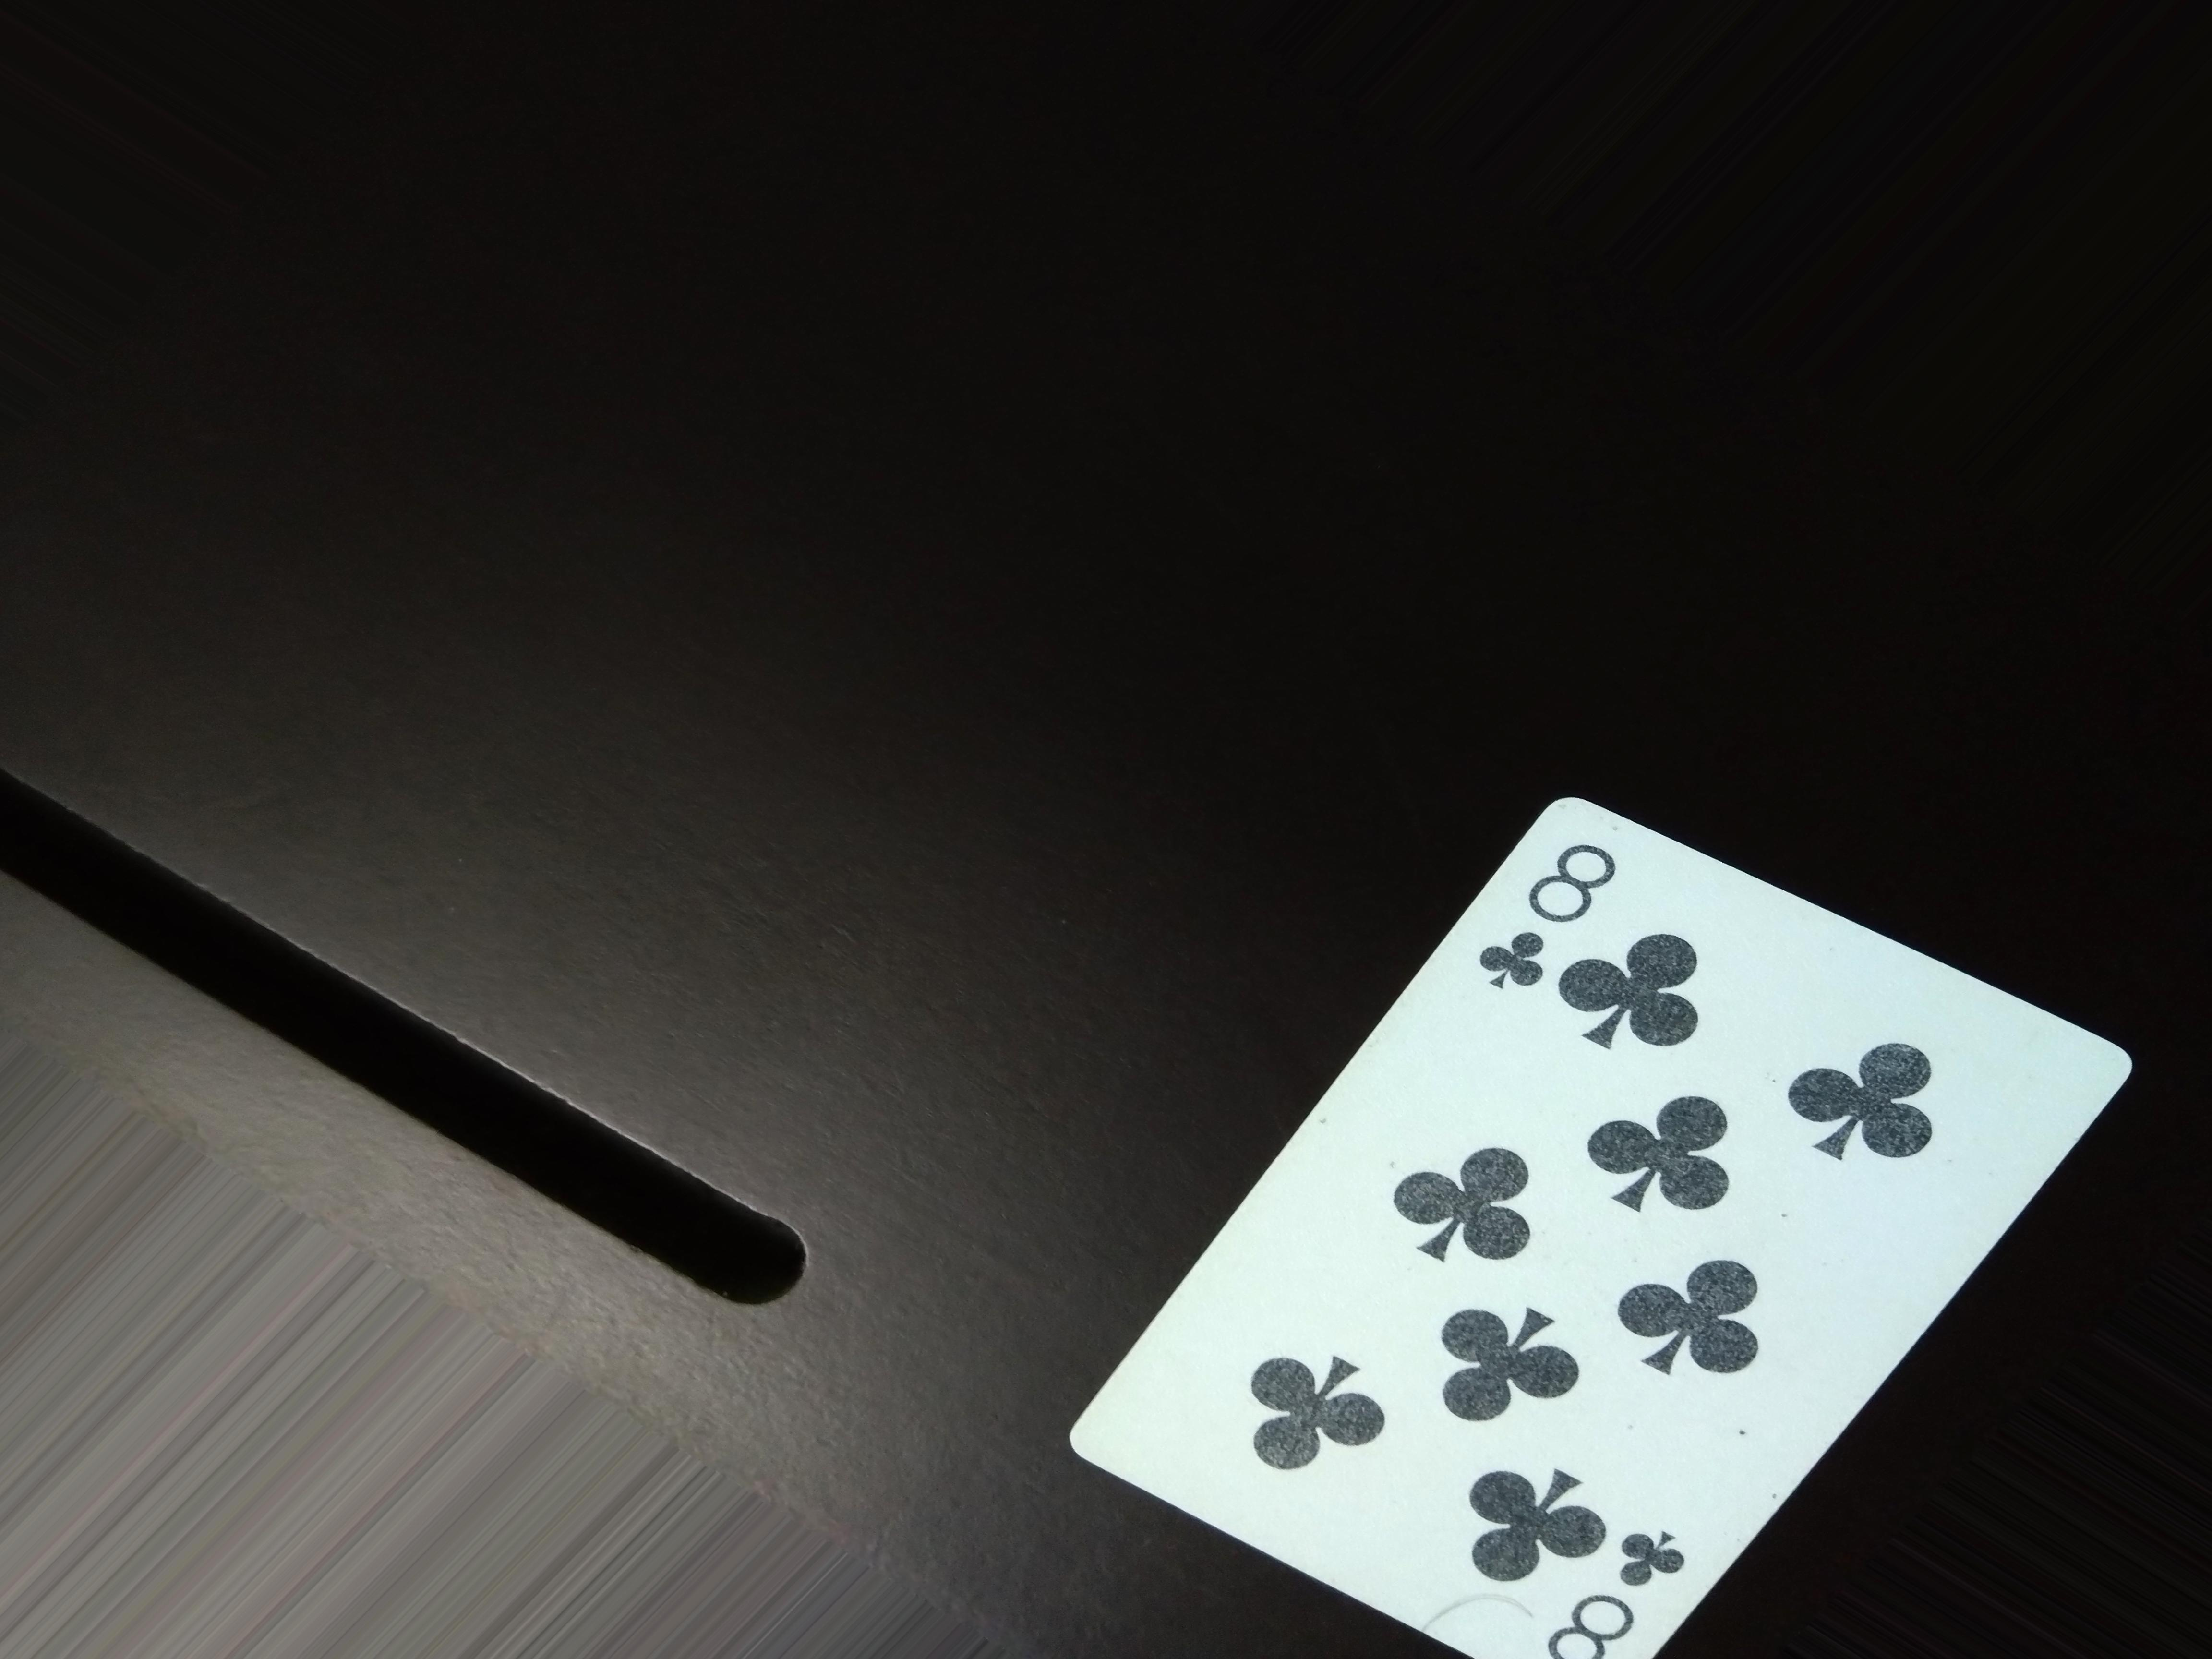8C: (1451, 819, 1646, 1016)
